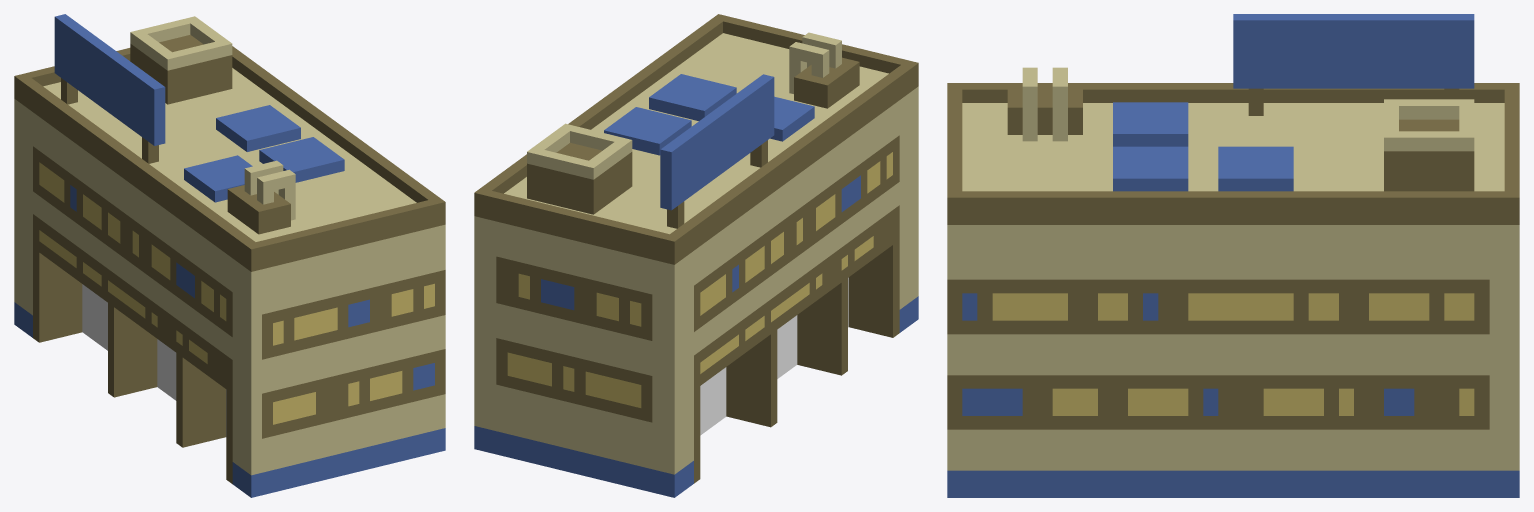
Rendered from sf_shop_5.glb.
The picture shows the model from 3 angles, left to right: view 1: azimuth 30°, elevation 25°; view 2: azimuth 150°, elevation 25°; view 3: azimuth 270°, elevation 25°; orthographic projection. The views are drawn at different scales.
Visible parts, largest first — view 1: Object_2; view 2: Object_2; view 3: Object_2.
Part boxes in pixels (<box>): Object_2: <box>14,14,445,497</box>; Object_2: <box>474,14,918,497</box>; Object_2: <box>947,14,1519,497</box>.
Bounding box in the file's own units: 4.5 × 7 × 9.5.
Materials: 1 (1 with a texture image).
